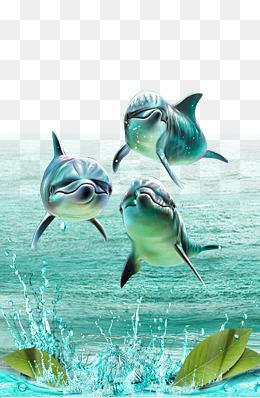fish: (116, 177, 231, 284), (113, 88, 233, 188), (24, 132, 119, 252)
